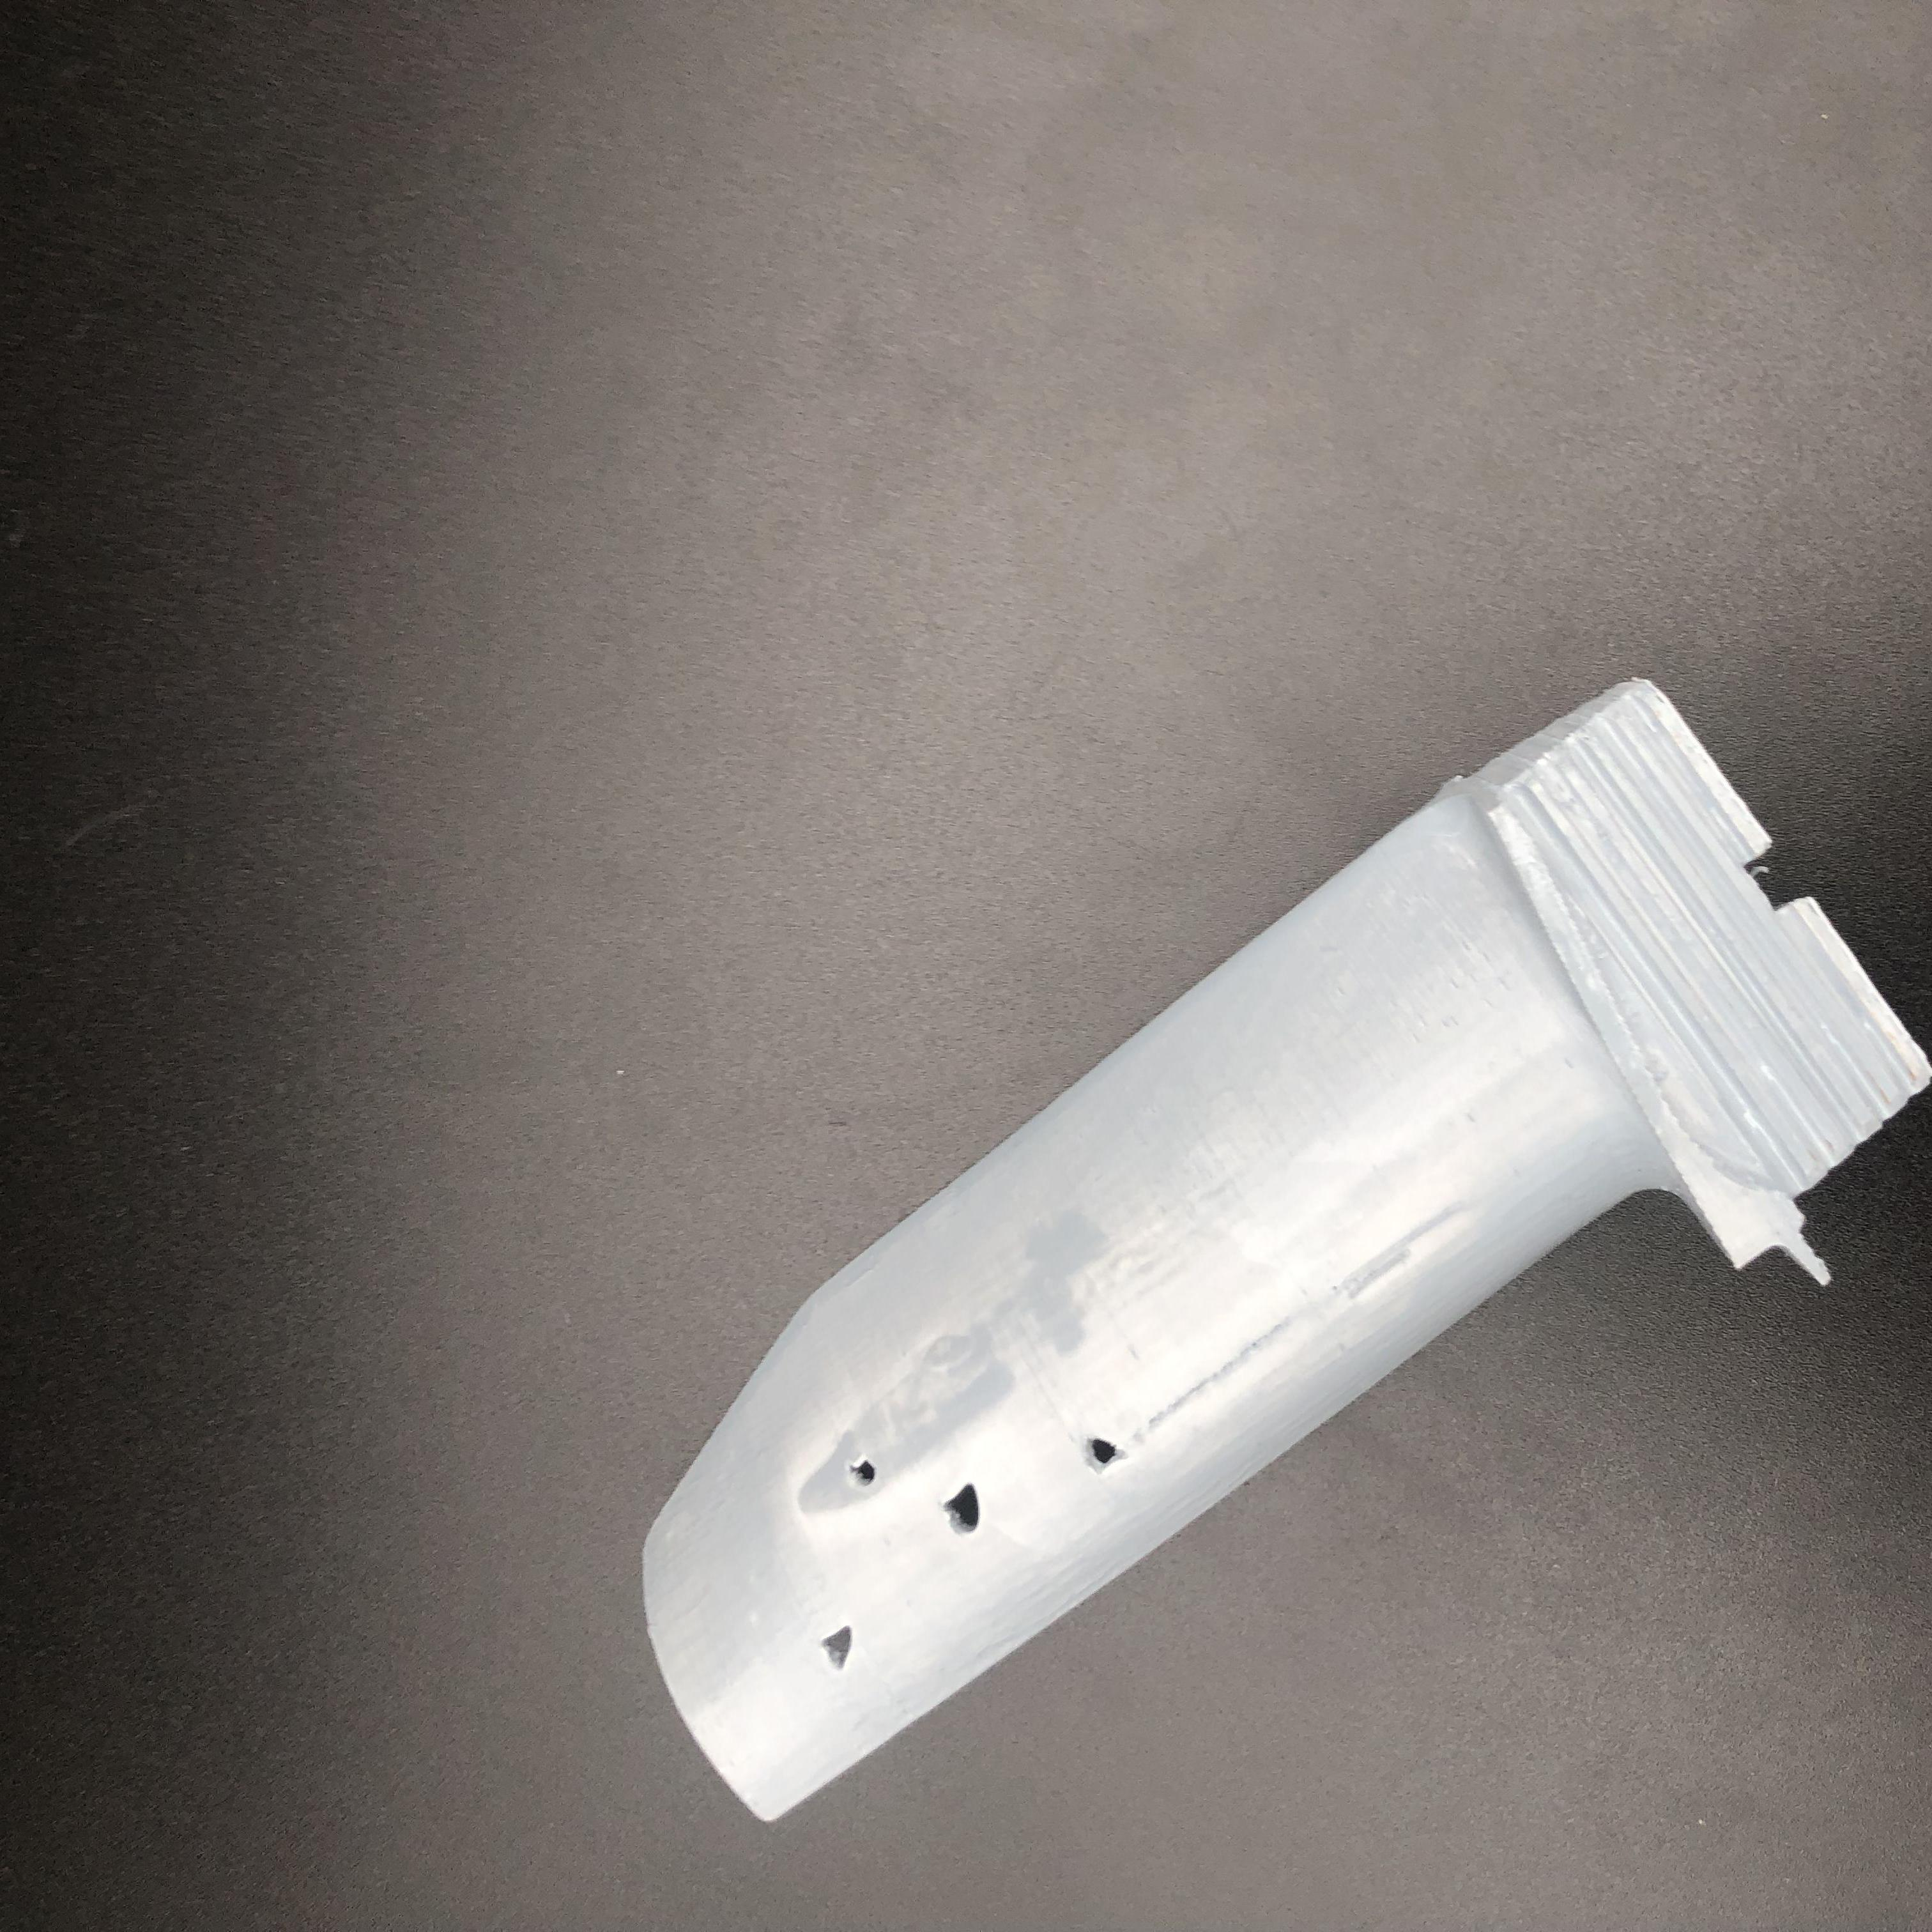breakdown: (816, 1435, 1132, 1677)
